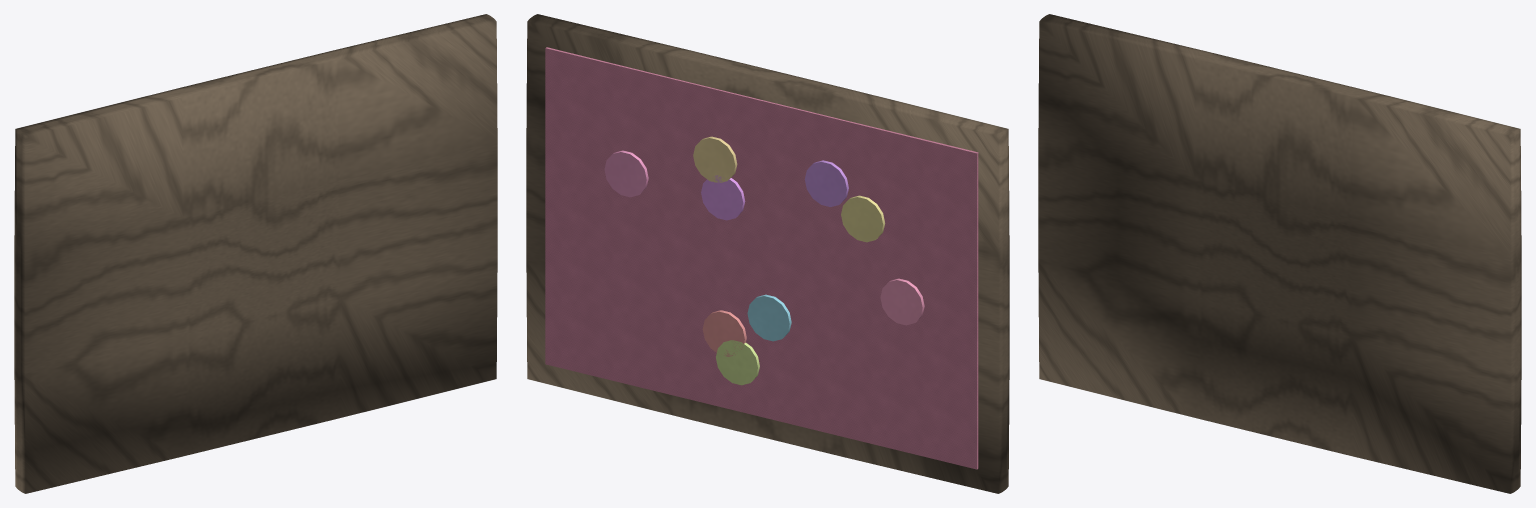
The model's file is painting_dots.glb.
3 views of the same model, side by side, from view 1: azimuth 30°, elevation 25°; view 2: azimuth 150°, elevation 25°; view 3: azimuth 330°, elevation 25° (orthographic).
Parts seen in each view (by area): view 1: painting_dots_body; view 2: painting_dots_body; view 3: painting_dots_body.
Boxes of the visible parts, x1,y1,x2,y2 form: painting_dots_body: [14, 14, 497, 493]; painting_dots_body: [526, 14, 1009, 493]; painting_dots_body: [1038, 14, 1521, 493].
Size of the model in its own units: 1.1 by 0.8 by 0.06.
11 materials, 11 textured.
